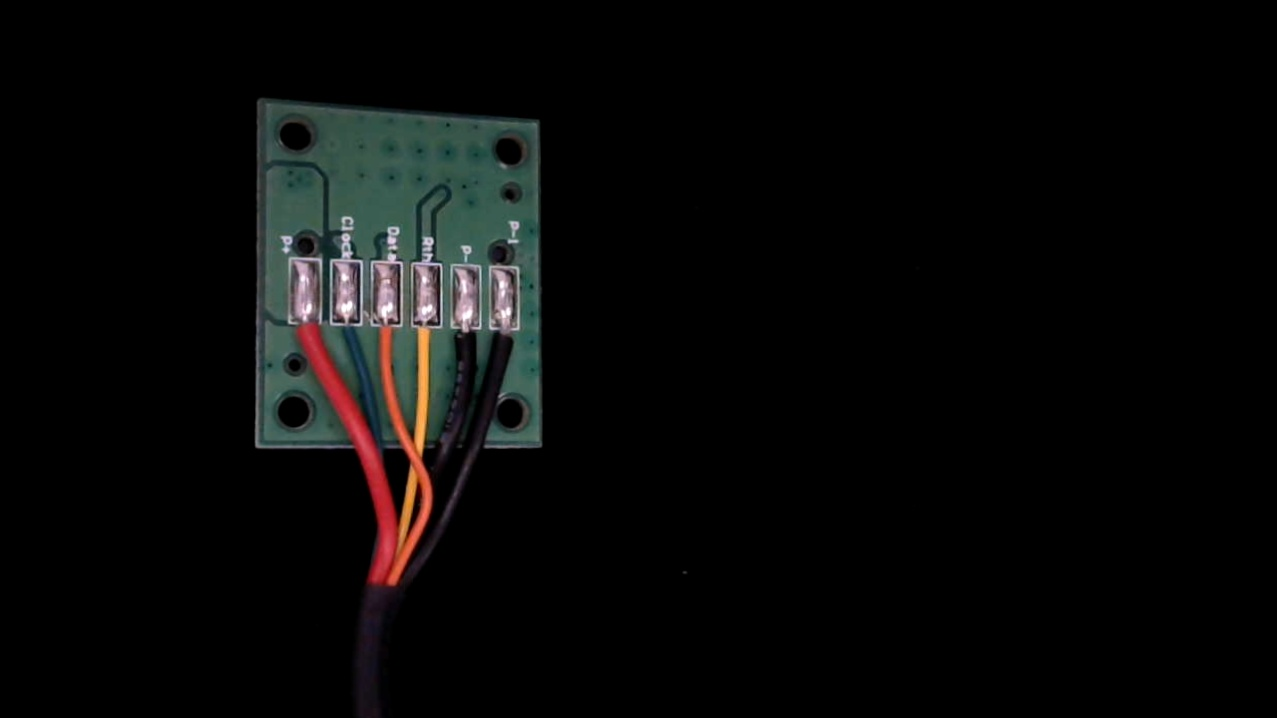Black: (447, 306, 482, 380)
Black1: (490, 310, 524, 378)
Green: (332, 299, 364, 360)
Orange: (372, 301, 405, 375)
Red: (288, 303, 320, 365)
Yellow: (409, 304, 444, 379)
